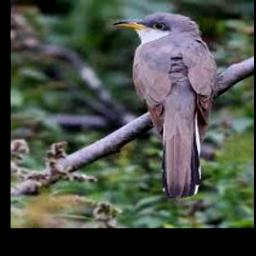Cuckoo: (113, 11, 218, 198)
